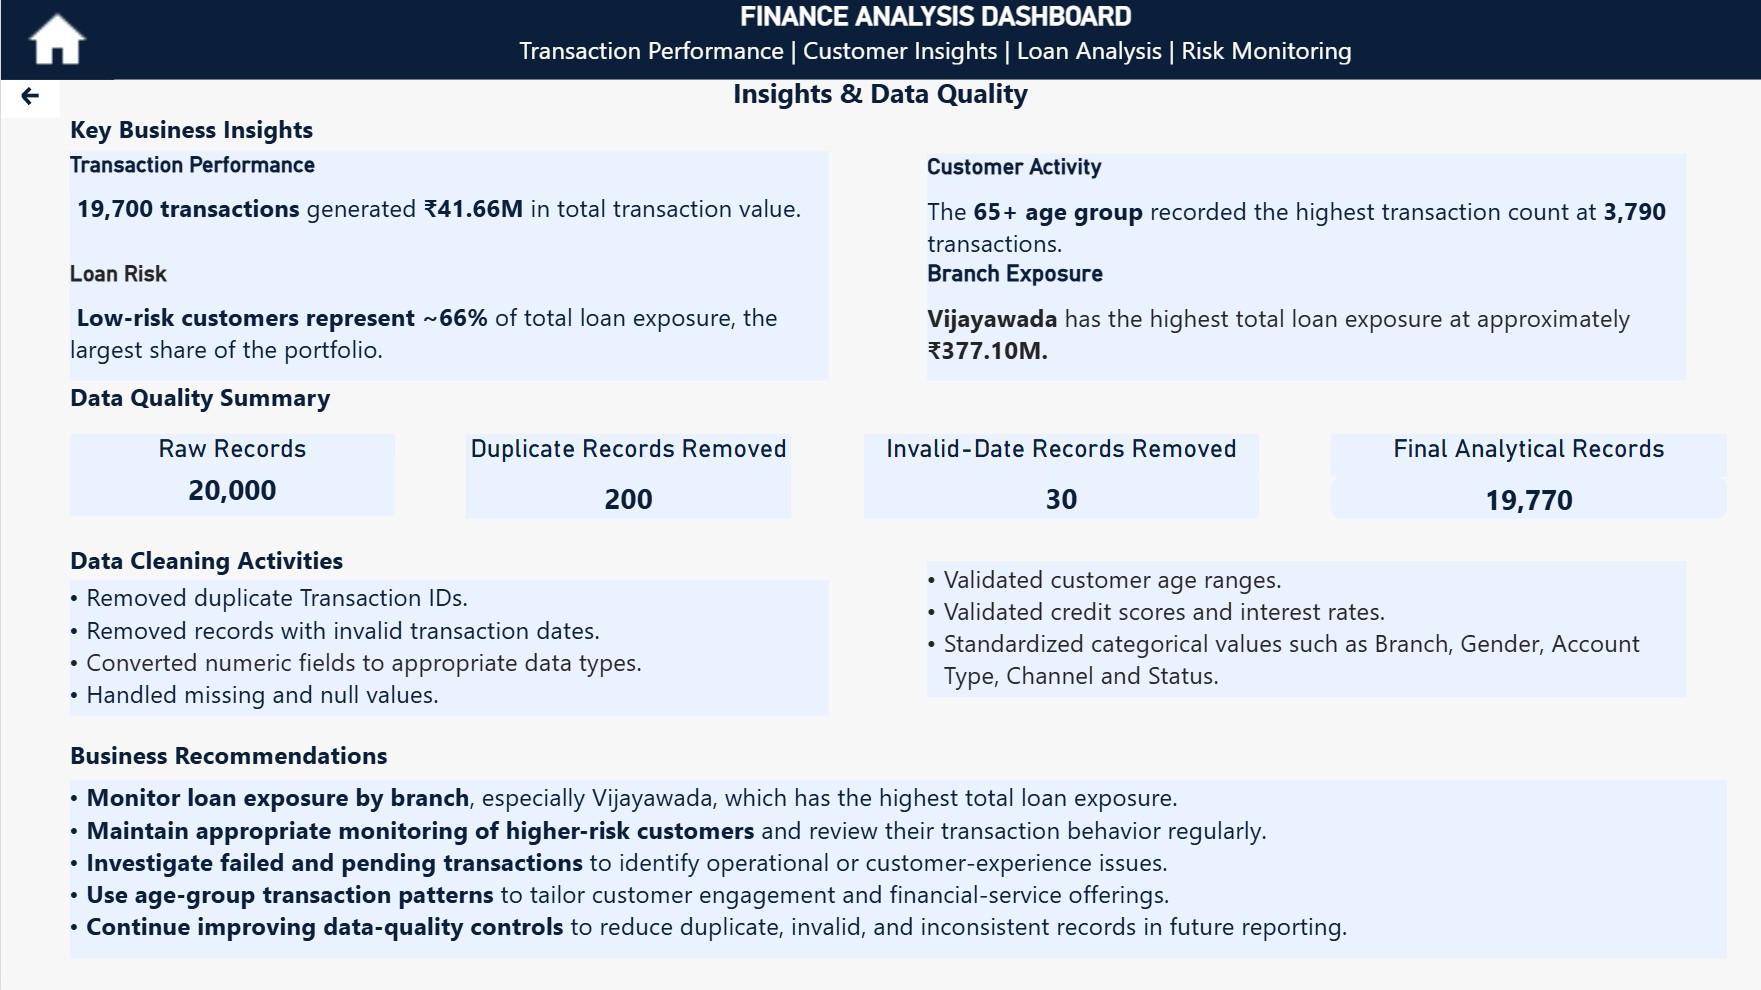

The page's visual inventory and layout, read from the dashboard file:
{"tool":"powerbi","page":{"name":"Insights & Data Quality","canvas":[1920,1080],"ordinal":4},"visuals":[{"type":"shape","title":"FINANCE ANALYSIS DASHBOARD","box":[120,0,1800,87],"z":0},{"type":"shape","title":"Insights & Data Quality","box":[0,79.7,1919,41.2],"z":1000},{"type":"textbox","box":[74.6,120.9,828.3,43.7],"z":2000},{"type":"textbox","box":[74.6,414.2,828.3,59.2],"z":3000},{"type":"shape","title":"Raw Records","box":[74.6,473.3,355,90],"z":4000},{"type":"shape","title":"Final Analytical Records","box":[1450.8,473.3,432.2,92.6],"z":5000},{"type":"shape","title":"Invalid-Date Records Removed","box":[941.5,473.3,432.2,92.6],"z":6000},{"type":"shape","title":"Duplicate Records Removed","box":[506.8,473.3,355,92.6],"z":7000},{"type":"textbox","box":[74.6,591.6,828.3,41.2],"z":8000},{"type":"textbox","box":[74.6,632.8,828.3,149.2],"z":9000},{"type":"textbox","box":[1010.9,612.2,828.3,149.2],"z":10000},{"type":"textbox","box":[74.6,805.2,787.1,46.3],"z":11000},{"type":"textbox","box":[74.6,851.5,1808.4,195.5],"z":12000},{"type":"textbox","title":"Transaction Performance","box":[74.6,164.6,828.3,118.3],"z":13000},{"type":"textbox","title":"Customer Activity","box":[1010.9,167.2,828.3,115.8],"z":14000},{"type":"textbox","title":"Loan Risk","box":[74.6,283,828.3,131.2],"z":15000},{"type":"textbox","title":"Branch Exposure","box":[1010.9,283,828.3,131.2],"z":16000},{"type":"actionButton","box":[0,80,64,48],"z":17000},{"type":"image","box":[0,0,123,87],"z":18000}]}

Visuals, with their boxes in screenshot pixels (x1, y1, x2, y2), scaled from the page's 1920x1080 canvas onto the 1761x990 screenshot:
"FINANCE ANALYSIS DASHBOARD" shape: bbox=(110, 0, 1760, 80)
"Insights & Data Quality" shape: bbox=(0, 73, 1760, 111)
textbox: bbox=(68, 111, 828, 151)
textbox: bbox=(68, 380, 828, 434)
"Raw Records" shape: bbox=(68, 434, 394, 516)
"Final Analytical Records" shape: bbox=(1331, 434, 1727, 519)
"Invalid-Date Records Removed" shape: bbox=(864, 434, 1260, 519)
"Duplicate Records Removed" shape: bbox=(465, 434, 790, 519)
textbox: bbox=(68, 542, 828, 580)
textbox: bbox=(68, 580, 828, 717)
textbox: bbox=(927, 561, 1687, 698)
textbox: bbox=(68, 738, 790, 781)
textbox: bbox=(68, 781, 1727, 960)
"Transaction Performance" textbox: bbox=(68, 151, 828, 259)
"Customer Activity" textbox: bbox=(927, 153, 1687, 259)
"Loan Risk" textbox: bbox=(68, 259, 828, 380)
"Branch Exposure" textbox: bbox=(927, 259, 1687, 380)
actionButton: bbox=(0, 73, 59, 117)
image: bbox=(0, 0, 113, 80)
